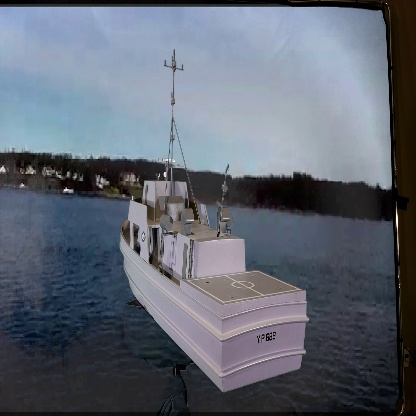YP689: (119, 51, 309, 393)
